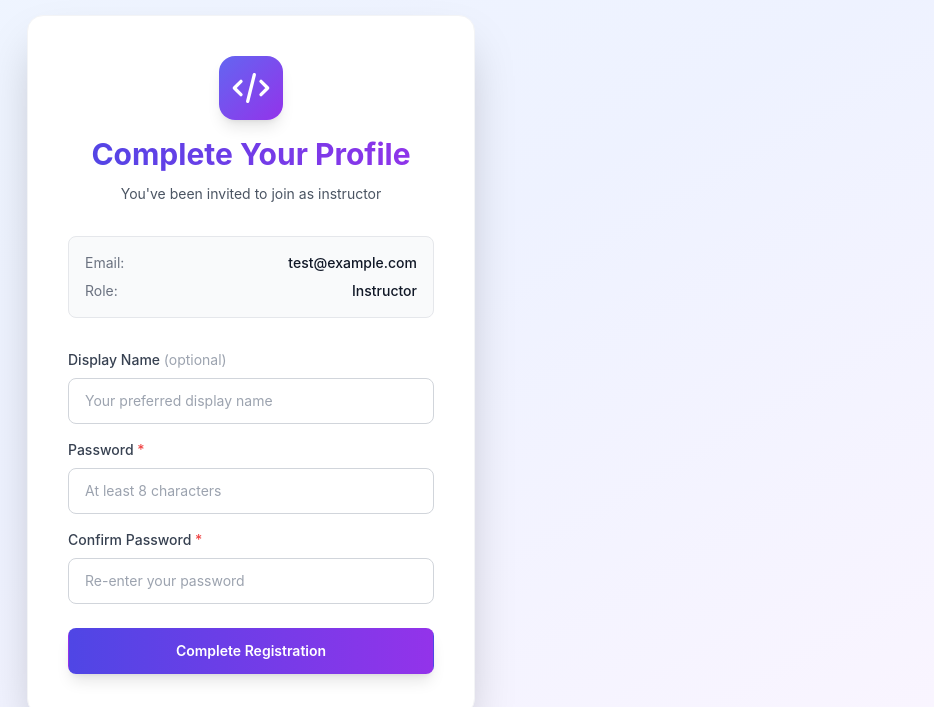
Test case: AcceptInvitePage › Form Submission › shows error for API failure
The width and height of the screenshot is (934, 707).
Expected: the heading "Complete Your Profile" is shown, [68, 136, 434, 172]
Type "testpassword123" into the password field with placeholder "At least 8 characters" at (251,491), box [68, 468, 434, 514]
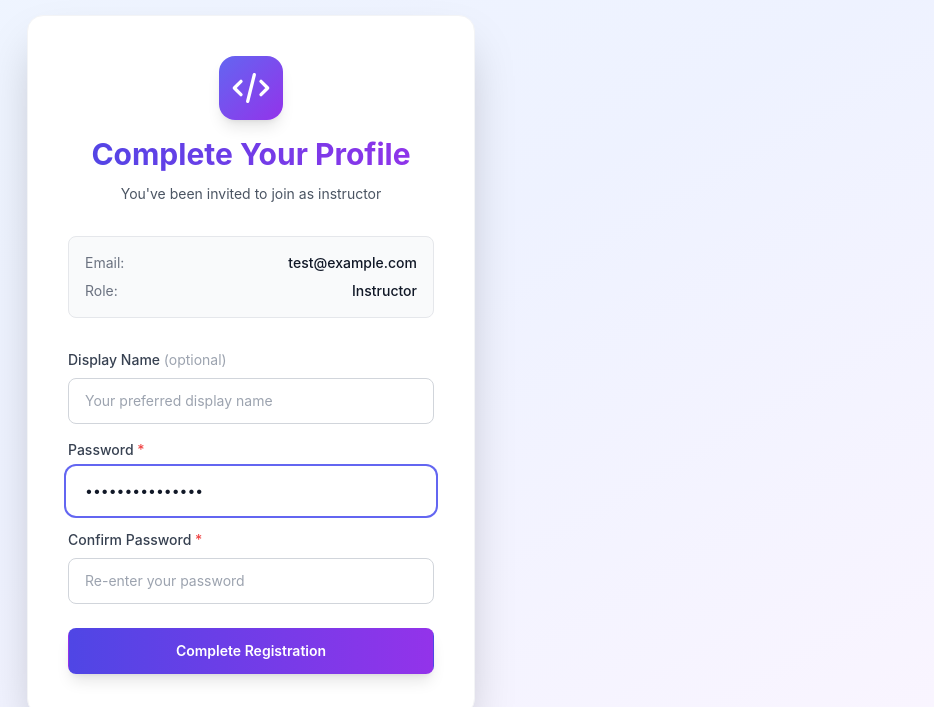
Type "testpassword123" into the password field with placeholder "Re-enter your password" at (251,581), box [68, 558, 434, 604]
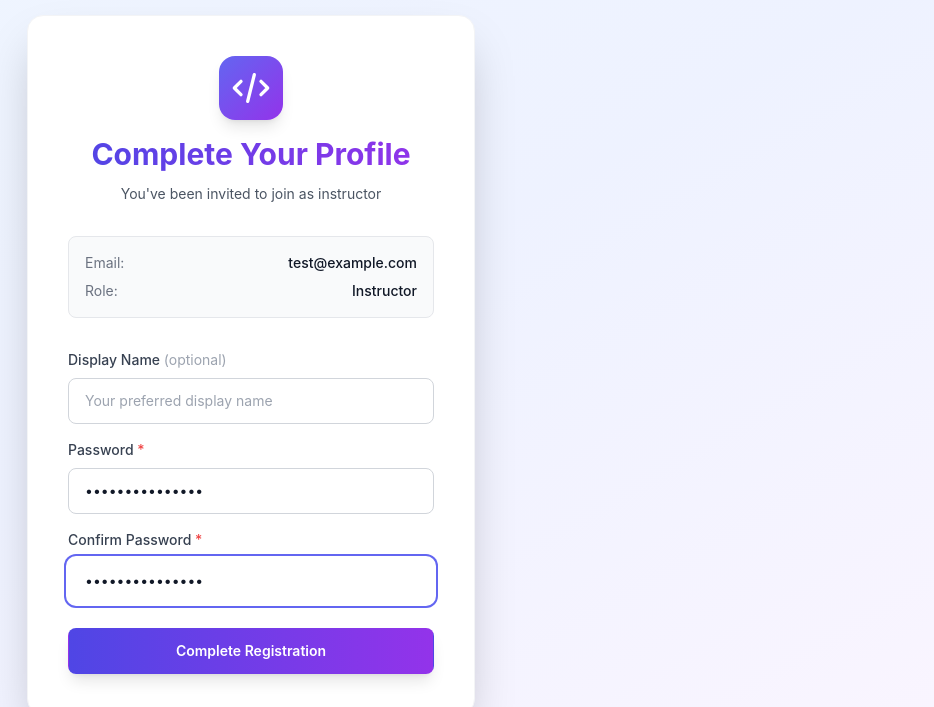
Click the button "Complete Registration" at (251,651), box [68, 628, 434, 674]
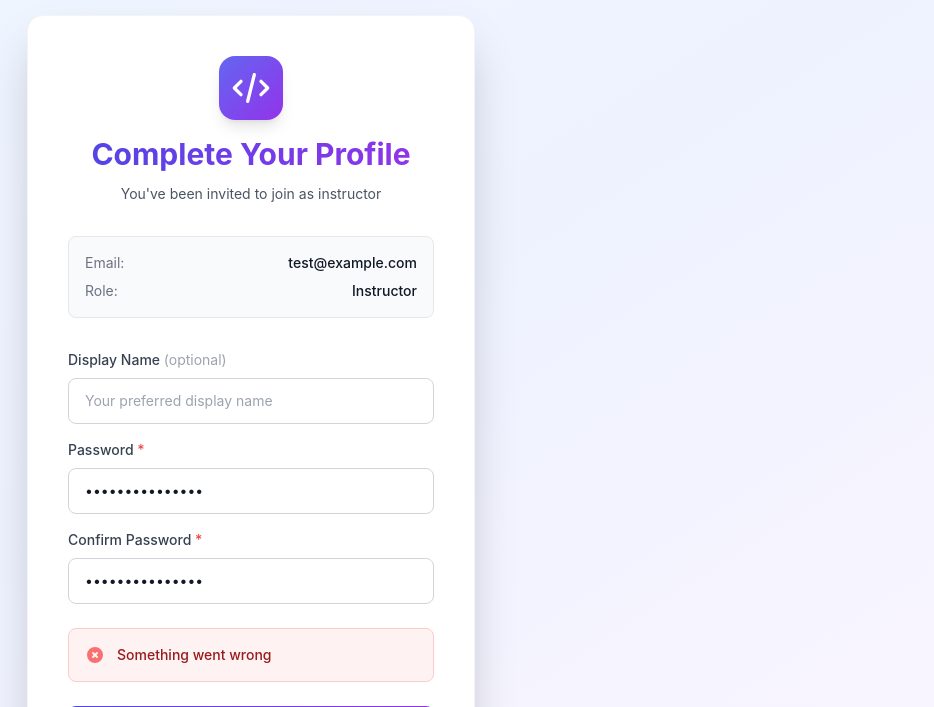
Expected: the text "Something went wrong" is shown, [117, 645, 272, 665]
